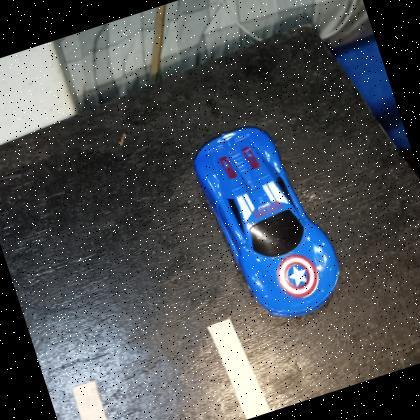Car: (193, 127, 340, 319)
